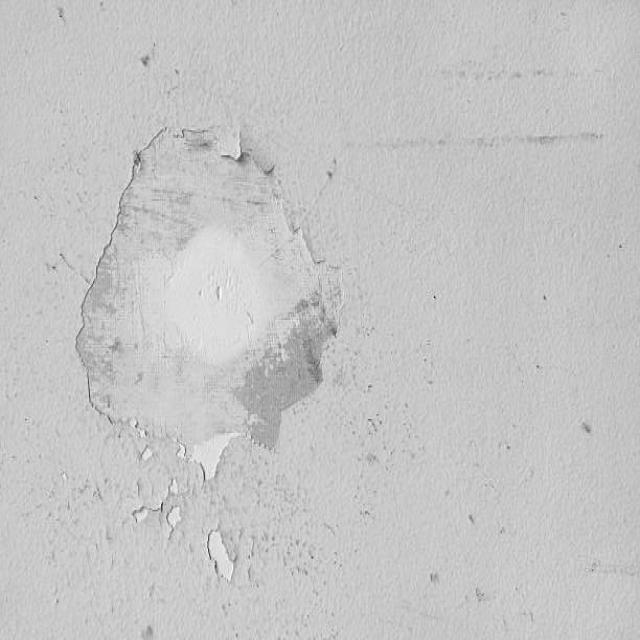peeling paint: (36, 92, 403, 638)
